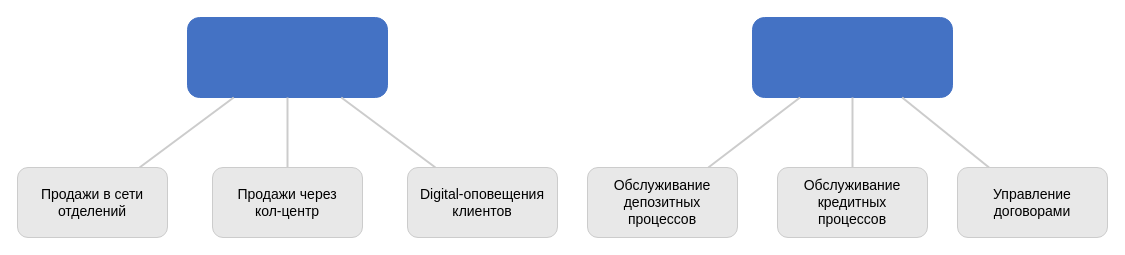
This 1125x255 diagram has some shape labels left out. Each missing label, with the centre of its shape:
"Поддержка операционных процессов" goes at pixel 852 57.
"Продажи и маркетинг" goes at pixel 287 57.
